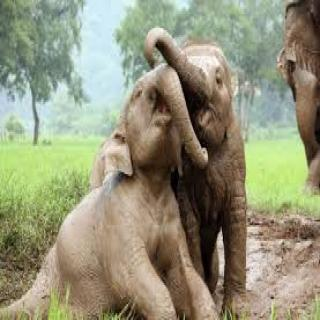Elephant: (27, 60, 224, 320)
